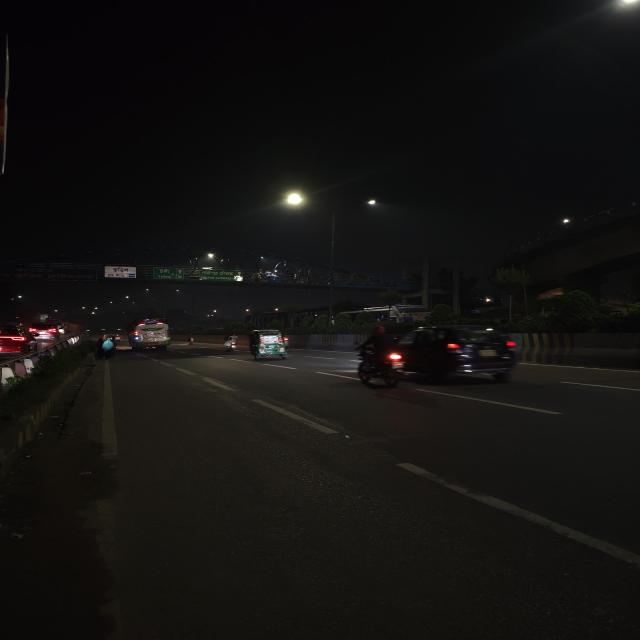bus: (126, 317, 177, 353)
car: (402, 322, 524, 383), (0, 334, 37, 355), (29, 323, 64, 341)
cng: (246, 328, 296, 362)
motorcycle: (348, 327, 412, 391), (220, 333, 243, 353)
pedestrian: (99, 338, 115, 360)
